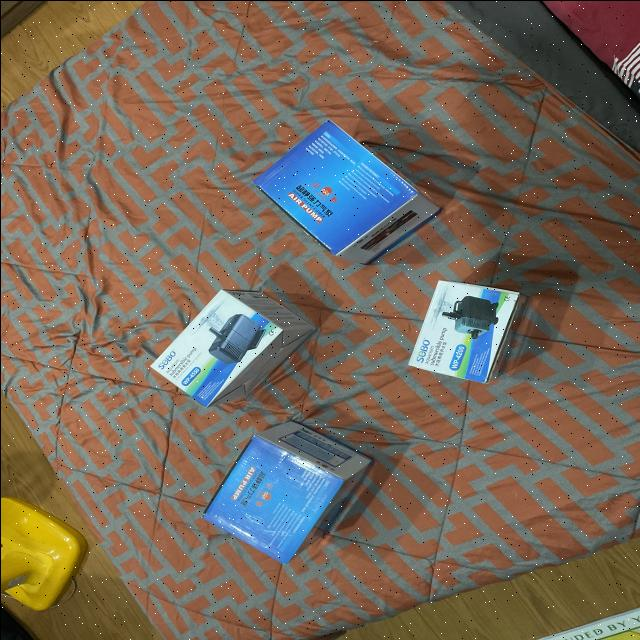SOBO_WP_4200: (128, 281, 304, 423), (389, 272, 532, 404)
YAMANO_LPP_20: (225, 110, 441, 270), (177, 422, 365, 570)
